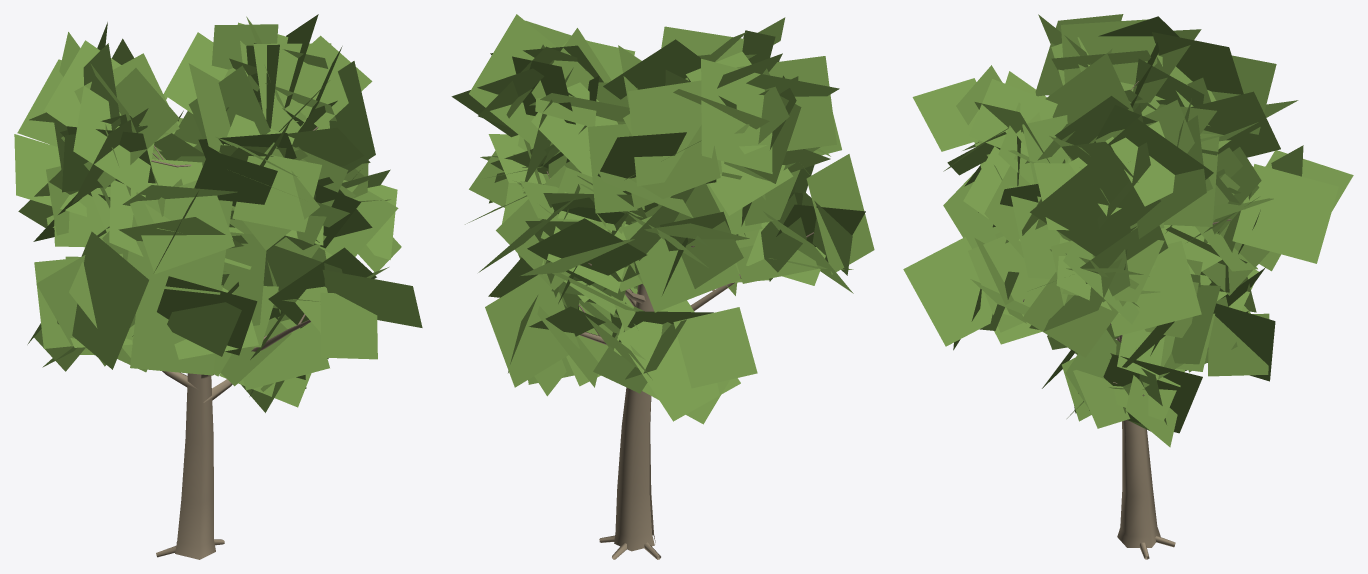
File: oak-0-lod2.glb
The picture shows the model from 3 angles, left to right: view 1: azimuth 30°, elevation 25°; view 2: azimuth 150°, elevation 25°; view 3: azimuth 270°, elevation 25°; orthographic projection. The views are drawn at different scales.
Parts seen in each view (by area): view 1: oak-0-lod2-foliage, oak-0-lod2-bark; view 2: oak-0-lod2-foliage, oak-0-lod2-bark; view 3: oak-0-lod2-foliage, oak-0-lod2-bark.
Boxes of the visible parts, x1,y1,x2,y2 form: oak-0-lod2-foliage: (14,14,422,412); oak-0-lod2-bark: (151,127,318,559); oak-0-lod2-foliage: (451,14,874,424); oak-0-lod2-bark: (546,171,813,559); oak-0-lod2-foliage: (903,14,1353,447); oak-0-lod2-bark: (1023,81,1231,559).
Size of the model in its own units: 12.12 by 16.37 by 13.52.
